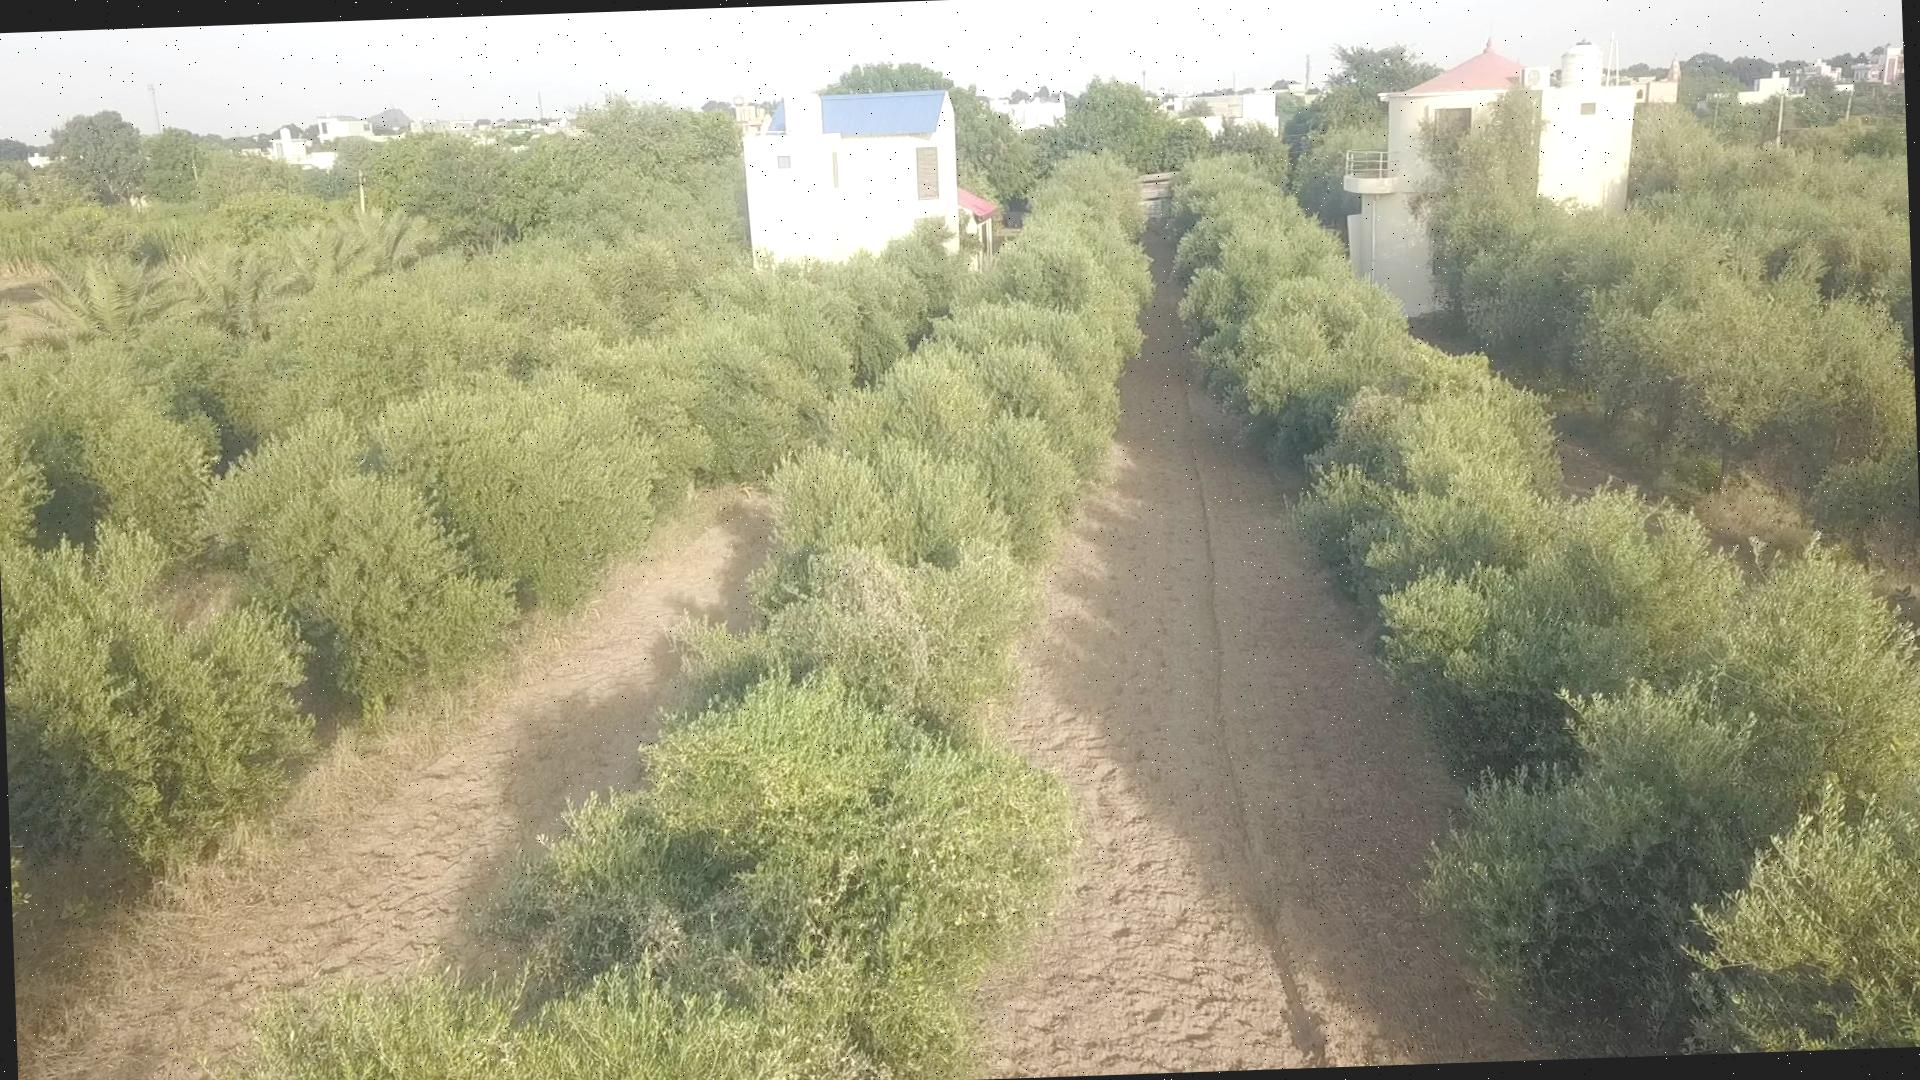canopy: (231, 153, 1153, 1080), (1175, 157, 1920, 1054), (0, 237, 955, 868), (1412, 98, 1916, 495)
road: (26, 493, 767, 1080), (981, 298, 1534, 1077)
